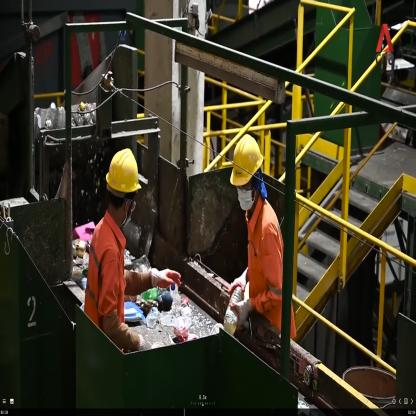Glass Bottle: (224, 282, 245, 337), (140, 284, 160, 304), (145, 304, 160, 329), (169, 281, 182, 309)
